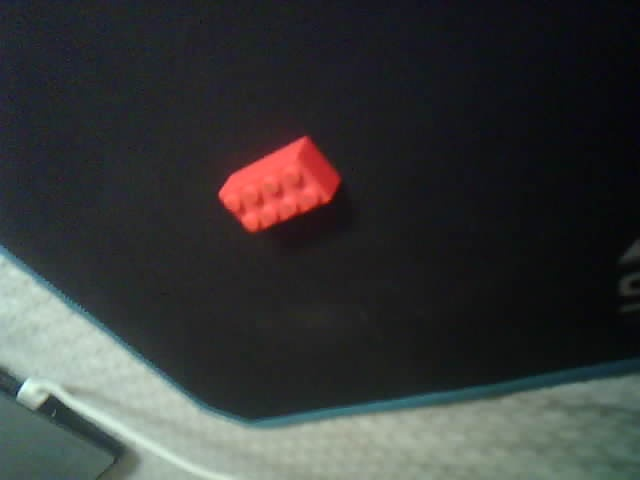lego: (217, 135, 341, 235)
